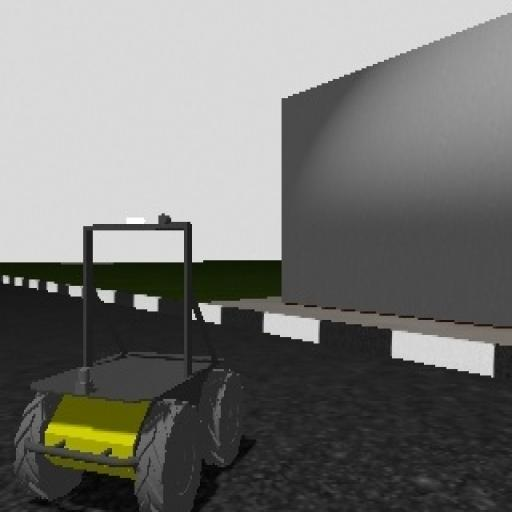huskya200: (21, 202, 249, 511)
